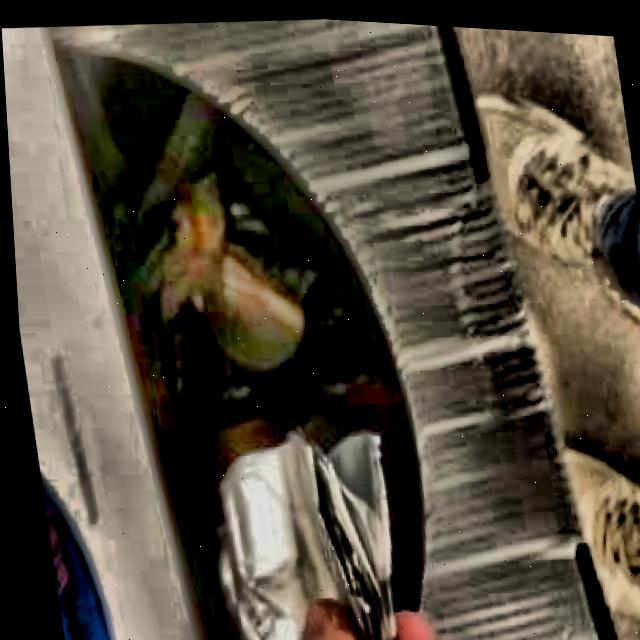metal: (213, 430, 386, 640)
